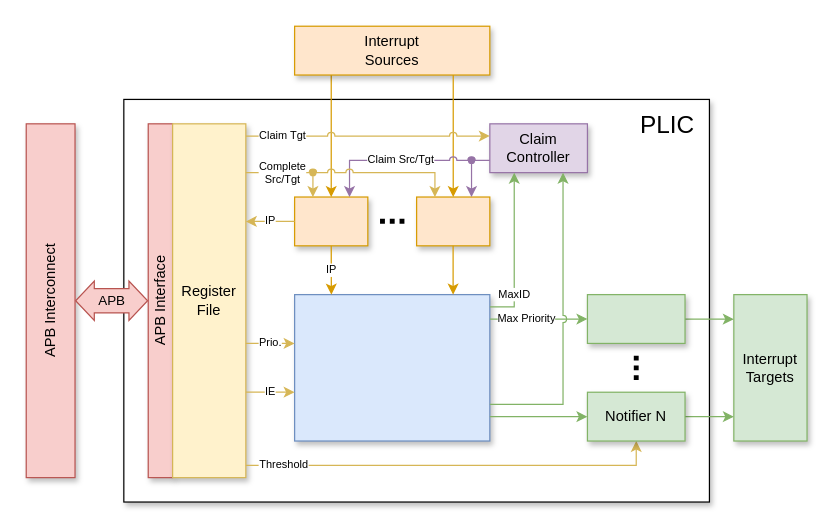
The diagram is 836 pixels wide and 532 high, and some of its shapes have lost their labels. Each missing label, with the centre of its shape:
"Gateway 1" goes at point (332, 222).
"Gateway M" goes at point (454, 222).
"Notifier 1" goes at point (636, 320).
"Routing Array" goes at point (393, 369).
